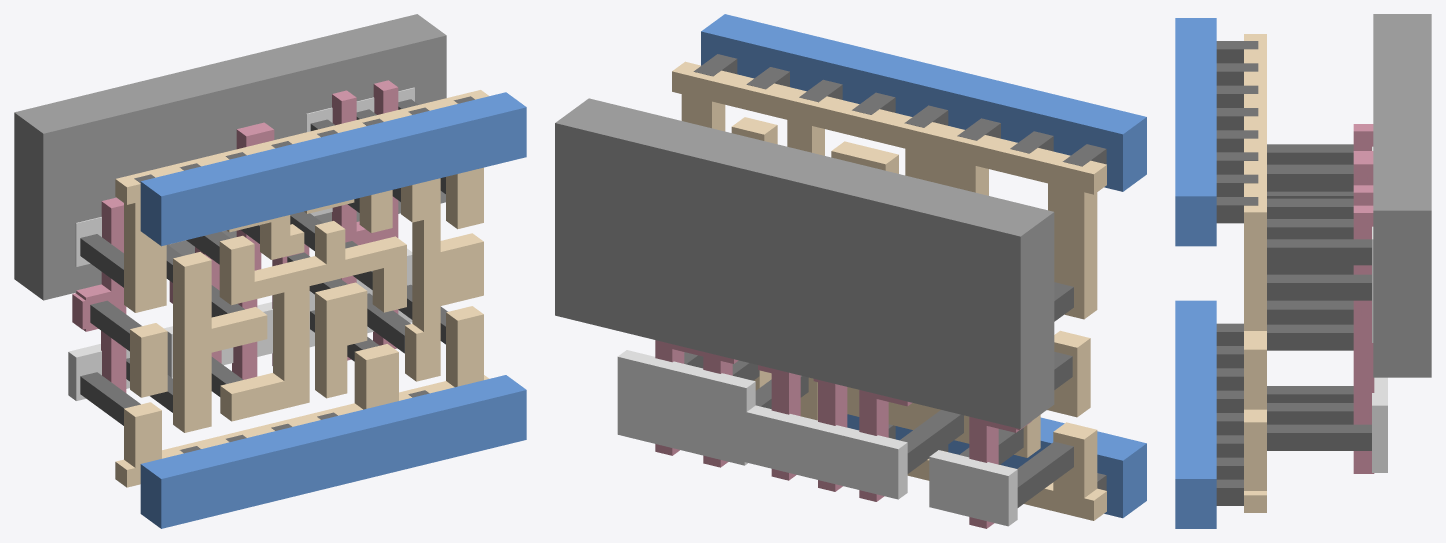
The model's file is sky130_fd_sc_hd__and3b_2.gds.gltf.
3 views of the same model, side by side, from view 1: azimuth 30°, elevation 25°; view 2: azimuth 150°, elevation 25°; view 3: azimuth 270°, elevation 25° (orthographic). The views are drawn at different scales.
Parts seen in each view (by area): view 1: sky130_fd_sc_hd__and3b_2_li1, sky130_fd_sc_hd__and3b_2_met1, sky130_fd_sc_hd__and3b_2_nwell, sky130_fd_sc_hd__and3b_2_licon, sky130_fd_sc_hd__and3b_2_poly, sky130_fd_sc_hd__and3b_2_diff, sky130_fd_sc_hd__and3b_2_mcon; view 2: sky130_fd_sc_hd__and3b_2_nwell, sky130_fd_sc_hd__and3b_2_li1, sky130_fd_sc_hd__and3b_2_met1, sky130_fd_sc_hd__and3b_2_diff, sky130_fd_sc_hd__and3b_2_poly, sky130_fd_sc_hd__and3b_2_licon, sky130_fd_sc_hd__and3b_2_mcon; view 3: sky130_fd_sc_hd__and3b_2_licon, sky130_fd_sc_hd__and3b_2_nwell, sky130_fd_sc_hd__and3b_2_met1, sky130_fd_sc_hd__and3b_2_mcon, sky130_fd_sc_hd__and3b_2_li1, sky130_fd_sc_hd__and3b_2_poly, sky130_fd_sc_hd__and3b_2_diff.
Boxes of the visible parts, box(x1,y1,x2,y2) form: sky130_fd_sc_hd__and3b_2_li1: box(115, 90, 489, 487); sky130_fd_sc_hd__and3b_2_met1: box(140, 92, 526, 528); sky130_fd_sc_hd__and3b_2_nwell: box(14, 14, 446, 300); sky130_fd_sc_hd__and3b_2_licon: box(80, 99, 447, 425); sky130_fd_sc_hd__and3b_2_poly: box(72, 80, 398, 392); sky130_fd_sc_hd__and3b_2_diff: box(68, 87, 414, 400); sky130_fd_sc_hd__and3b_2_mcon: box(134, 96, 474, 453); sky130_fd_sc_hd__and3b_2_nwell: box(555, 98, 1054, 428); sky130_fd_sc_hd__and3b_2_li1: box(672, 61, 1106, 520); sky130_fd_sc_hd__and3b_2_met1: box(701, 14, 1146, 518); sky130_fd_sc_hd__and3b_2_diff: box(617, 350, 1017, 526); sky130_fd_sc_hd__and3b_2_poly: box(655, 340, 1031, 528); sky130_fd_sc_hd__and3b_2_licon: box(684, 282, 1073, 507); sky130_fd_sc_hd__and3b_2_mcon: box(693, 54, 1106, 490); sky130_fd_sc_hd__and3b_2_licon: box(1267, 144, 1371, 450); sky130_fd_sc_hd__and3b_2_nwell: box(1373, 14, 1431, 377); sky130_fd_sc_hd__and3b_2_met1: box(1175, 18, 1216, 528); sky130_fd_sc_hd__and3b_2_mcon: box(1216, 41, 1258, 505); sky130_fd_sc_hd__and3b_2_li1: box(1244, 34, 1266, 512); sky130_fd_sc_hd__and3b_2_poly: box(1353, 124, 1374, 473); sky130_fd_sc_hd__and3b_2_diff: box(1372, 146, 1387, 472).
Size of the model in its own units: 4.06 by 3.2 by 2.24.
